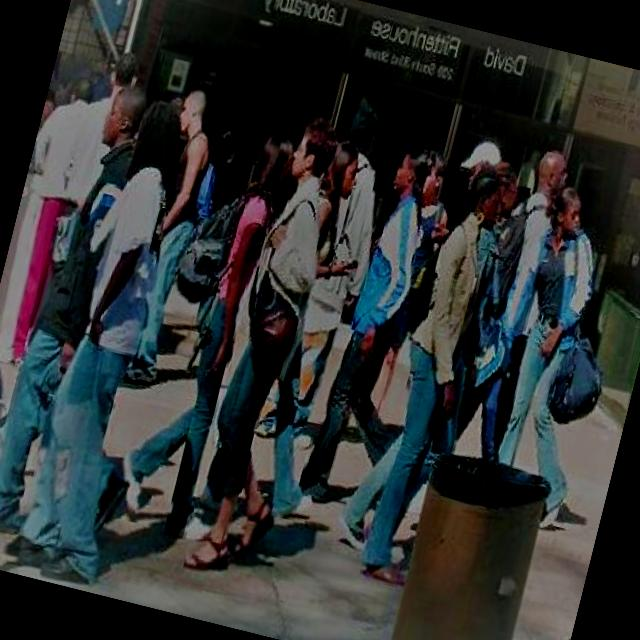Person: (0, 89, 207, 591), (172, 106, 366, 589), (342, 155, 520, 597), (0, 73, 153, 555), (472, 181, 640, 535), (293, 133, 447, 509), (112, 78, 233, 390)
